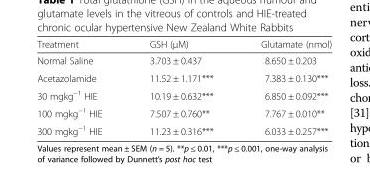table: (36, 37, 331, 136)
table column: (125, 37, 236, 136), (236, 37, 331, 136), (36, 37, 125, 136)
table column header: (36, 37, 331, 52)
table row: (36, 85, 331, 103), (36, 103, 331, 121), (36, 52, 331, 69), (36, 69, 331, 85), (36, 37, 331, 52), (36, 121, 331, 136)
